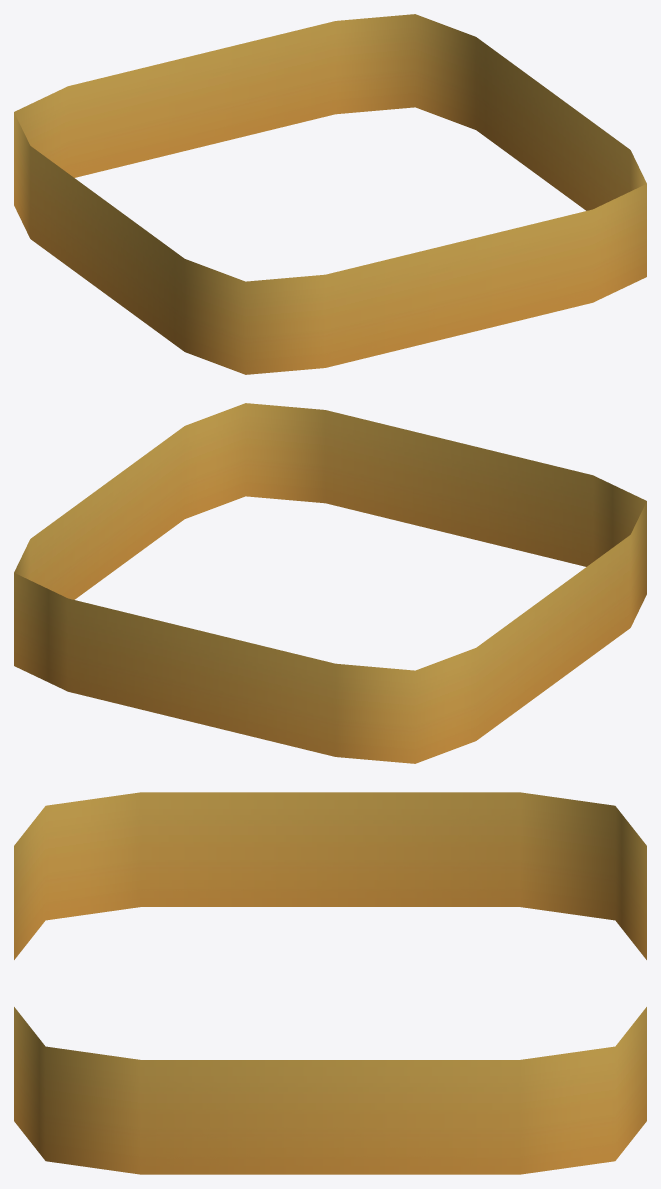
Rendered from indicator-square-f.glb.
3 views of the same model, one above another, from view 1: azimuth 30°, elevation 25°; view 2: azimuth 150°, elevation 25°; view 3: azimuth 270°, elevation 25° (orthographic). The views are drawn at different scales.
Parts seen in each view (by area): view 1: indicator-square-f; view 2: indicator-square-f; view 3: indicator-square-f.
Boxes of the visible parts, box(x1,y1,x2,y2) form: indicator-square-f: box(14, 14, 646, 374); indicator-square-f: box(14, 403, 646, 763); indicator-square-f: box(14, 792, 646, 1174).
Bounding box in the file's own units: 1 × 0.2 × 1.
Materials: 1 (1 with a texture image).
